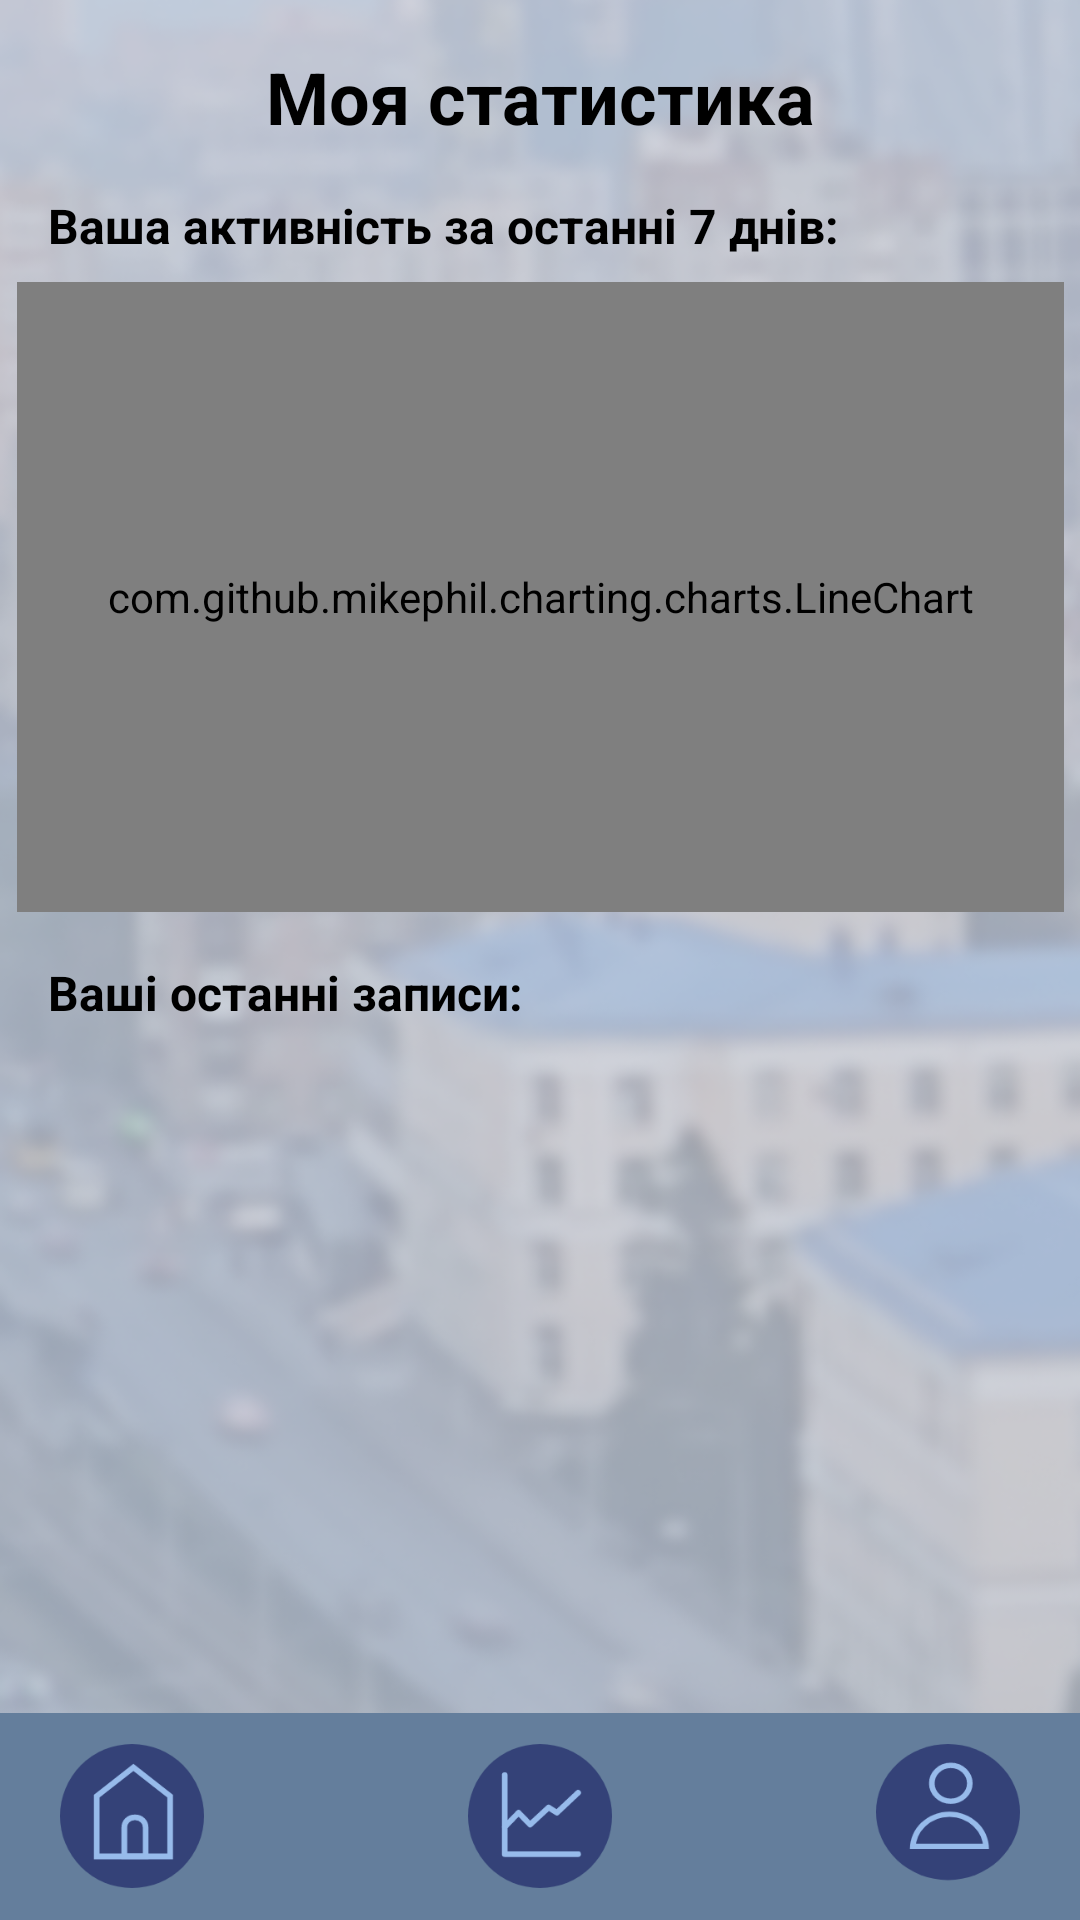

Named icons in this screenshot (1080 x 1920) and their bounding boxes, (x1, y1, x2, y2):
home not: (60, 1744, 204, 1888)
profile not: (876, 1744, 1020, 1880)
statistic not: (468, 1744, 612, 1888)
